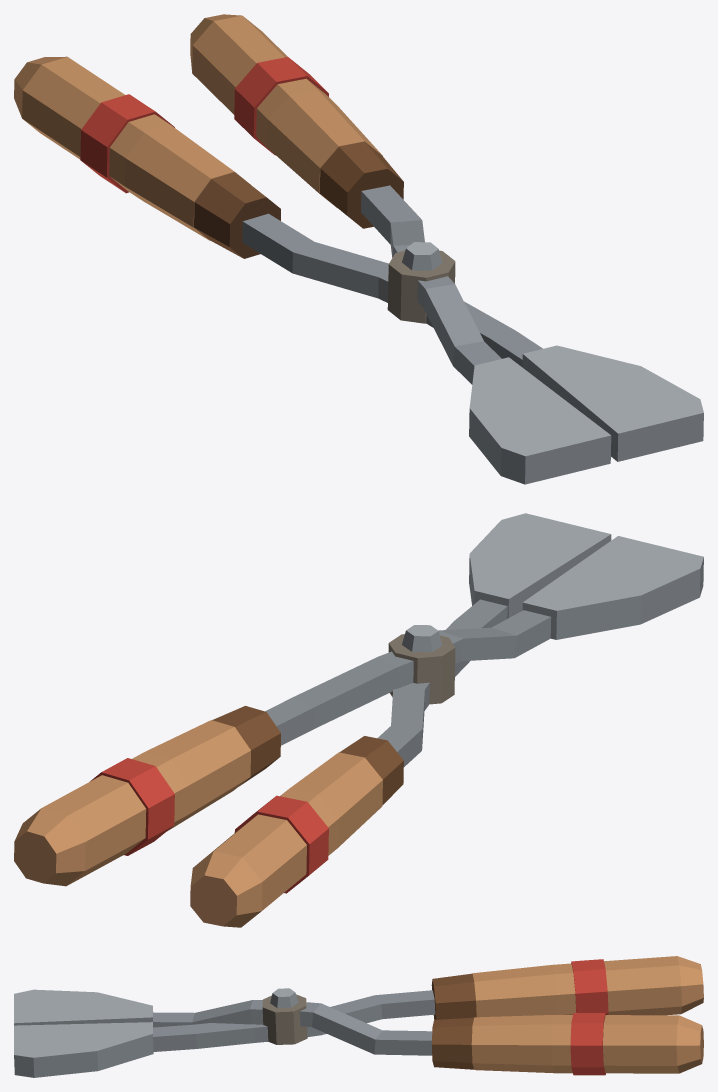
Rendered from FMS_Workshop_TOL_16.fbx.
The picture shows the model from 3 angles, top to bottom: view 1: azimuth 30°, elevation 25°; view 2: azimuth 150°, elevation 25°; view 3: azimuth 270°, elevation 25°; orthographic projection. The views are drawn at different scales.
Visible parts, largest first — view 1: FMS_Workshop_TOL_16_Body; view 2: FMS_Workshop_TOL_16_Body; view 3: FMS_Workshop_TOL_16_Body.
Part boxes in pixels (x1=…): FMS_Workshop_TOL_16_Body: x1=14, y1=14, x2=703, y2=484; FMS_Workshop_TOL_16_Body: x1=14, y1=513, x2=703, y2=927; FMS_Workshop_TOL_16_Body: x1=14, y1=956, x2=703, y2=1077.
Size of the model in its own units: 0.1398 by 0.043 by 0.4964.
Materials: 1 (1 with a texture image).
